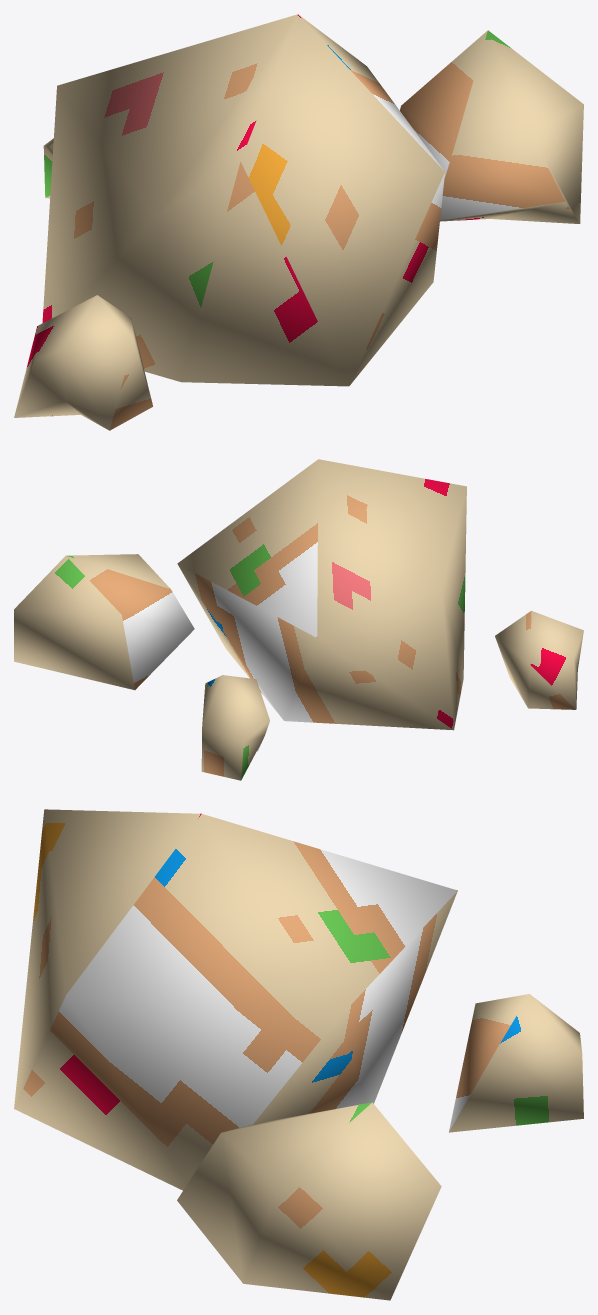
Rendered from Cake.fbx.
The picture shows the model from 3 angles, top to bottom: view 1: azimuth 30°, elevation 25°; view 2: azimuth 150°, elevation 25°; view 3: azimuth 270°, elevation 25°; orthographic projection. The views are drawn at different scales.
Parts seen in each view (by area): view 1: Large Crumb; view 2: Large Crumb; view 3: Large Crumb.
Boxes of the visible parts, <box> form: Large Crumb: <box>14,14,583,430</box>; Large Crumb: <box>14,459,583,780</box>; Large Crumb: <box>14,809,583,1300</box>.
Size of the model in its own units: 77.58 by 33.68 by 55.31.
